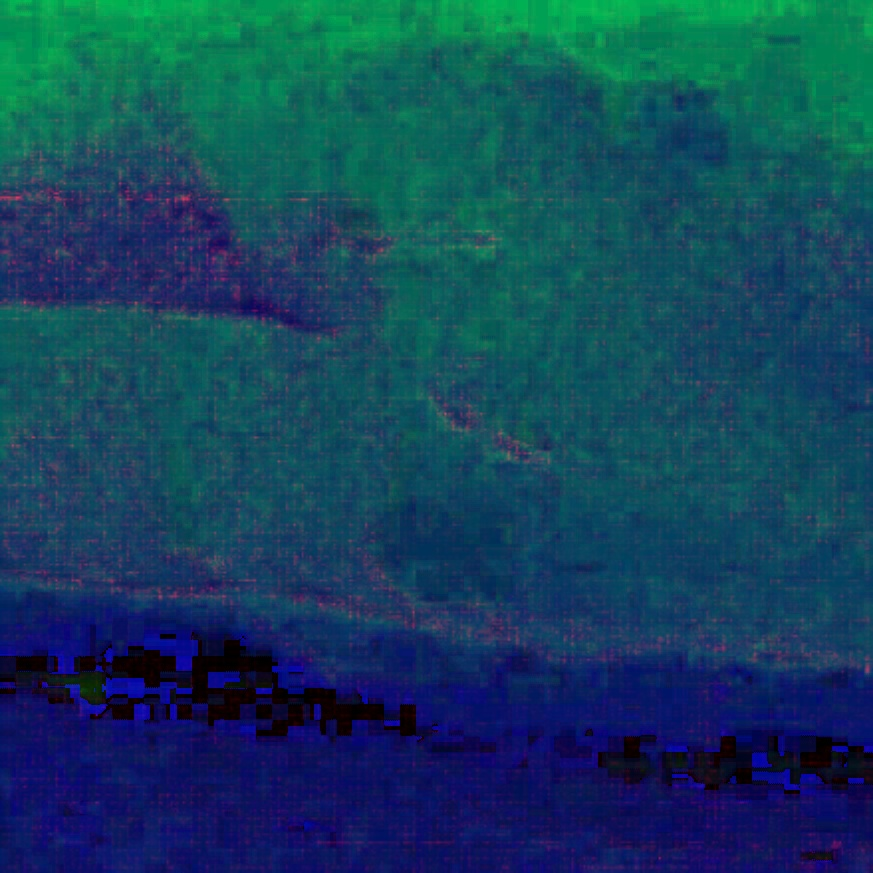rip_current: (315, 65, 604, 588)
